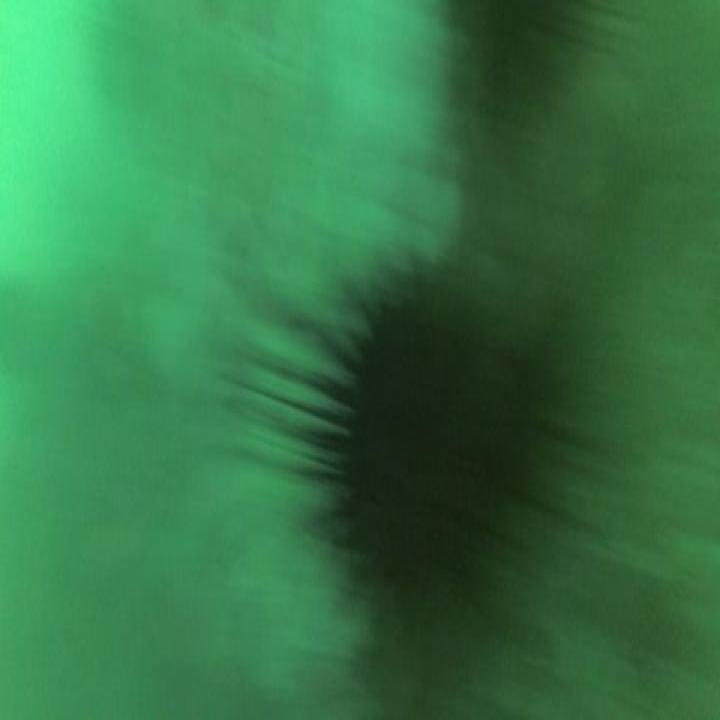echinus: (332, 281, 534, 603)
